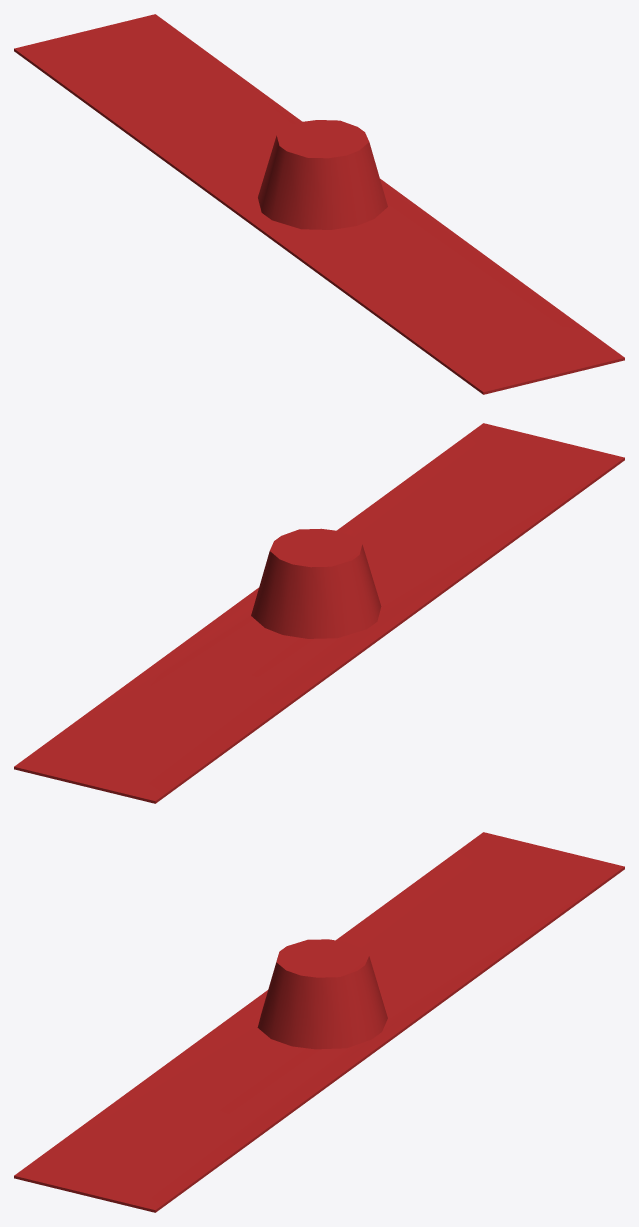
File: clim_latte_lampe.FBX
The picture shows the model from 3 angles, top to bottom: view 1: azimuth 30°, elevation 25°; view 2: azimuth 150°, elevation 25°; view 3: azimuth 330°, elevation 25°; orthographic projection.
Visible parts, largest first — view 1: latte_lampe; view 2: latte_lampe; view 3: latte_lampe.
Part boxes in pixels (x1=…): latte_lampe: x1=14, y1=14, x2=624, y2=394; latte_lampe: x1=14, y1=423, x2=624, y2=803; latte_lampe: x1=14, y1=832, x2=624, y2=1212.
Size of the model in its own units: 11.12 by 4.96 by 63.93.
